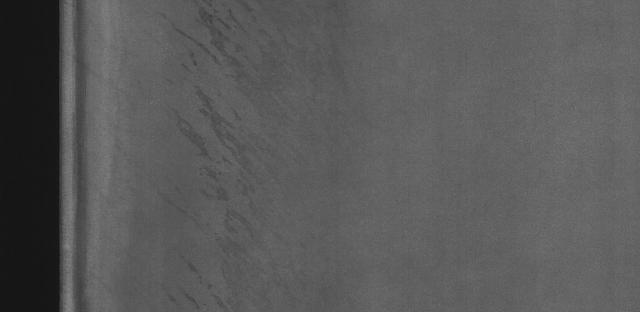water_spot: (172, 5, 299, 292)
